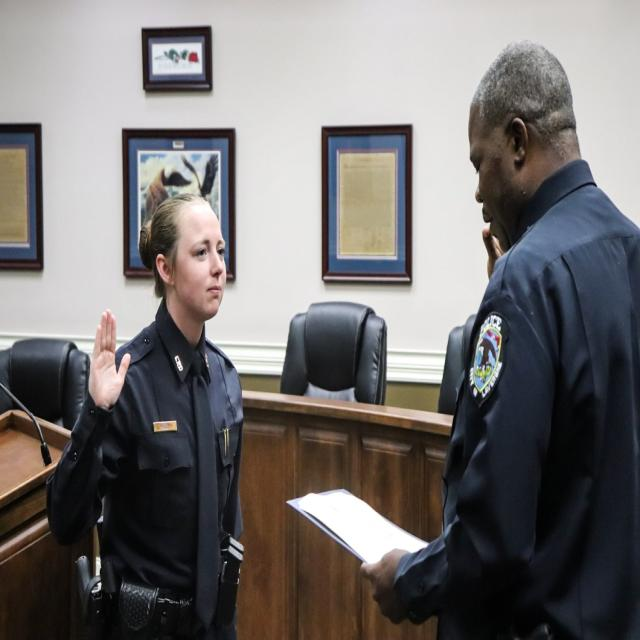police: (438, 20, 640, 640), (70, 187, 276, 640)
